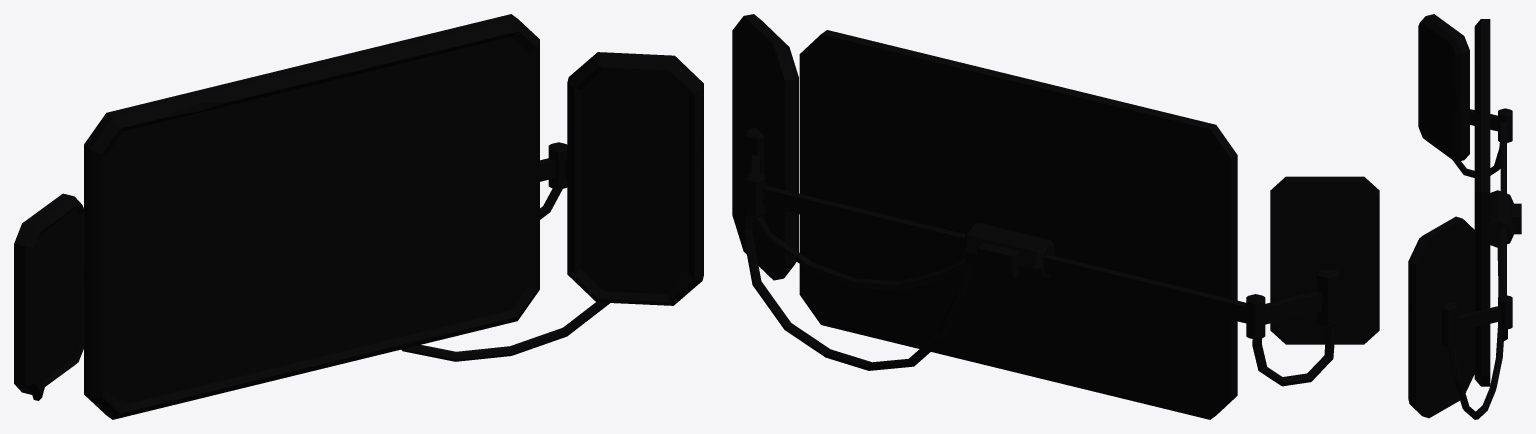
File: cyber_SM_Prop_Monitor_06.gltf
The picture shows the model from 3 angles, left to right: view 1: azimuth 30°, elevation 25°; view 2: azimuth 150°, elevation 25°; view 3: azimuth 270°, elevation 25°; orthographic projection. The views are drawn at different scales.
Parts seen in each view (by area): view 1: SM_Prop_Monitor_06; view 2: SM_Prop_Monitor_06; view 3: SM_Prop_Monitor_06.
Part boxes in pixels (x1,y1,x2,y2): SM_Prop_Monitor_06: [14, 14, 703, 419]; SM_Prop_Monitor_06: [732, 14, 1379, 419]; SM_Prop_Monitor_06: [1408, 14, 1521, 419].
Bounding box in the file's own units: 1.55 × 0.7326 × 0.3029.
Materials: 1 (1 with a texture image).
